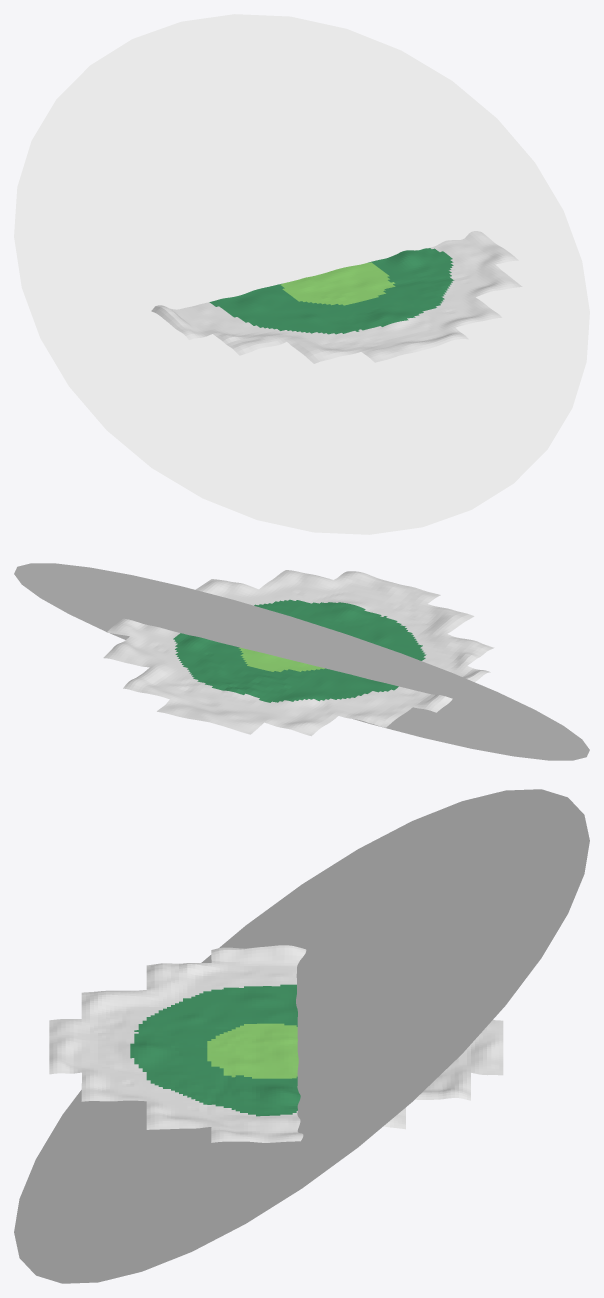
Rendered from map2-2.fbx.
3 views of the same model, one above another, from view 1: azimuth 30°, elevation 25°; view 2: azimuth 150°, elevation 25°; view 3: azimuth 270°, elevation 25° (orthographic). The views are drawn at different scales.
Visible parts, largest first — view 1: Sphere.002, Plane; view 2: Plane, Sphere.002; view 3: Sphere.002, Plane.
Part boxes in pixels (x1=…): Sphere.002: x1=14, y1=14, x2=589, y2=534; Plane: x1=151, y1=231, x2=522, y2=363; Plane: x1=103, y1=570, x2=494, y2=736; Sphere.002: x1=14, y1=563, x2=589, y2=760; Sphere.002: x1=14, y1=789, x2=589, y2=1283; Plane: x1=49, y1=945, x2=503, y2=1142.
Bounding box in the file's own units: 33306 × 19983 × 26645.
